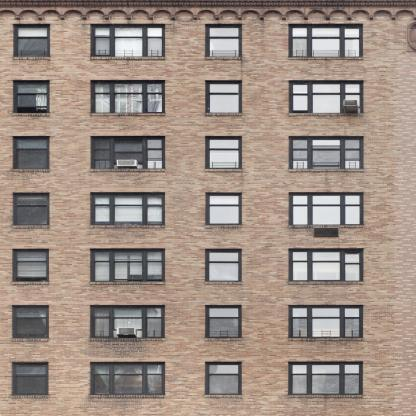Building Outline: (0, 0, 416, 416)
Facade: (0, 0, 416, 416)
Floor: (1, 20, 415, 73), (1, 359, 415, 412), (1, 246, 415, 299), (1, 189, 415, 242), (1, 133, 415, 186), (1, 77, 415, 130), (1, 303, 415, 355)
Floor Slab: (1, 412, 415, 416), (1, 355, 415, 359), (1, 242, 415, 246), (1, 186, 415, 190), (1, 73, 415, 76), (1, 299, 415, 302), (1, 130, 415, 133)
Molding: (0, 0, 414, 19)
Sill: (91, 57, 166, 60), (288, 395, 363, 398), (90, 395, 165, 398), (288, 338, 363, 341), (90, 338, 165, 341), (90, 282, 165, 285), (289, 169, 364, 172), (91, 169, 166, 172), (91, 113, 166, 116), (289, 57, 364, 59), (288, 282, 363, 284), (289, 226, 364, 228), (91, 226, 166, 228), (289, 114, 364, 116), (206, 57, 242, 60), (14, 57, 50, 60), (205, 395, 241, 398), (206, 338, 242, 341), (13, 282, 49, 285), (206, 169, 242, 172), (13, 169, 49, 172), (206, 113, 242, 116), (12, 396, 48, 398), (13, 339, 49, 341), (206, 282, 242, 284), (206, 226, 242, 228), (13, 226, 49, 228), (13, 114, 49, 116)
Window: (288, 248, 363, 282), (289, 23, 363, 57), (91, 23, 165, 57), (289, 192, 363, 226), (91, 192, 165, 226), (289, 80, 363, 114), (288, 362, 363, 395), (90, 362, 165, 395), (288, 305, 363, 338), (90, 305, 165, 338), (90, 249, 165, 282), (289, 136, 363, 169), (91, 136, 165, 169), (91, 80, 165, 113), (206, 248, 242, 282), (206, 192, 242, 226), (13, 192, 49, 226), (13, 80, 49, 114), (206, 24, 242, 57), (14, 24, 50, 57), (205, 362, 241, 395), (12, 362, 48, 395), (206, 305, 242, 338), (13, 305, 49, 338), (13, 249, 49, 282), (206, 136, 242, 169), (13, 136, 49, 169), (206, 80, 242, 113)
